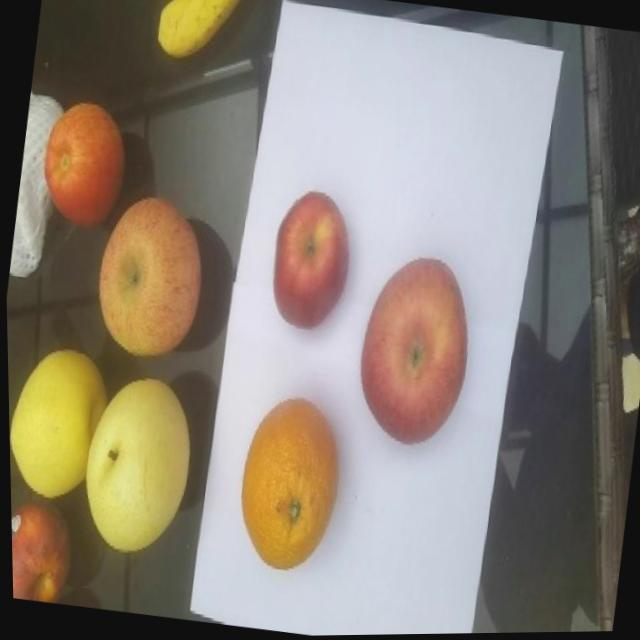Apple: (346, 250, 480, 453), (86, 189, 213, 364), (261, 186, 359, 335), (33, 96, 134, 233), (9, 494, 77, 605)
Banana: (153, 0, 251, 67)
Orange: (226, 391, 348, 577)
